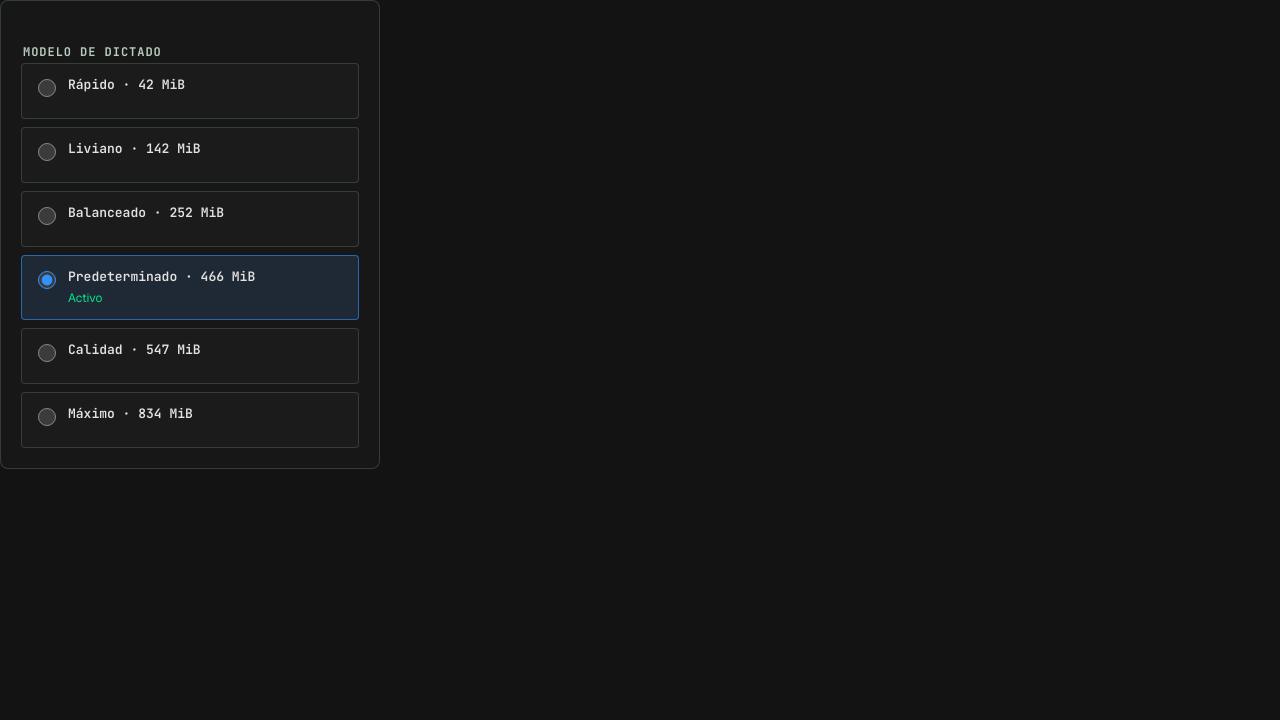
Test case: ModelSelector › requires confirmation, reports progress, and does not activate during download
Click the radio button labelled "Calidad · 547 MiB" at {"x": 47, "y": 353}, box [38,344,56,362]
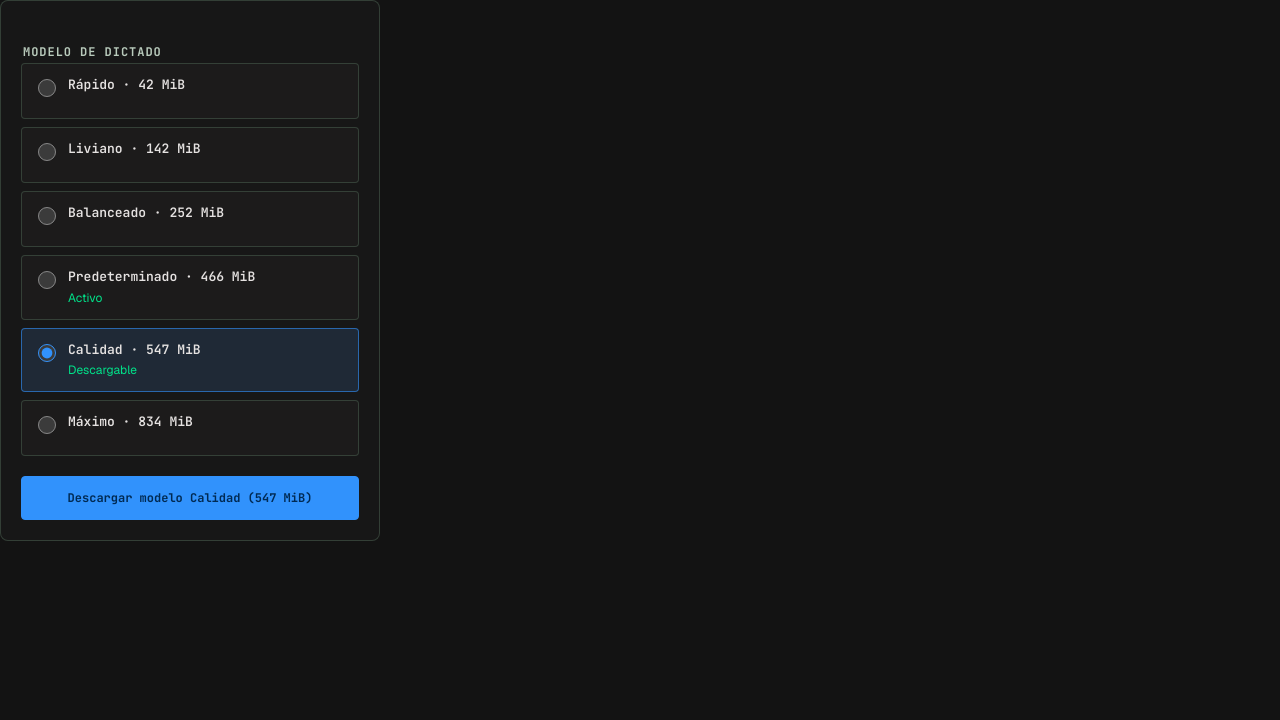
Click the button "Descargar modelo Calidad (547 MiB)" at {"x": 190, "y": 498}, box [21,476,359,520]
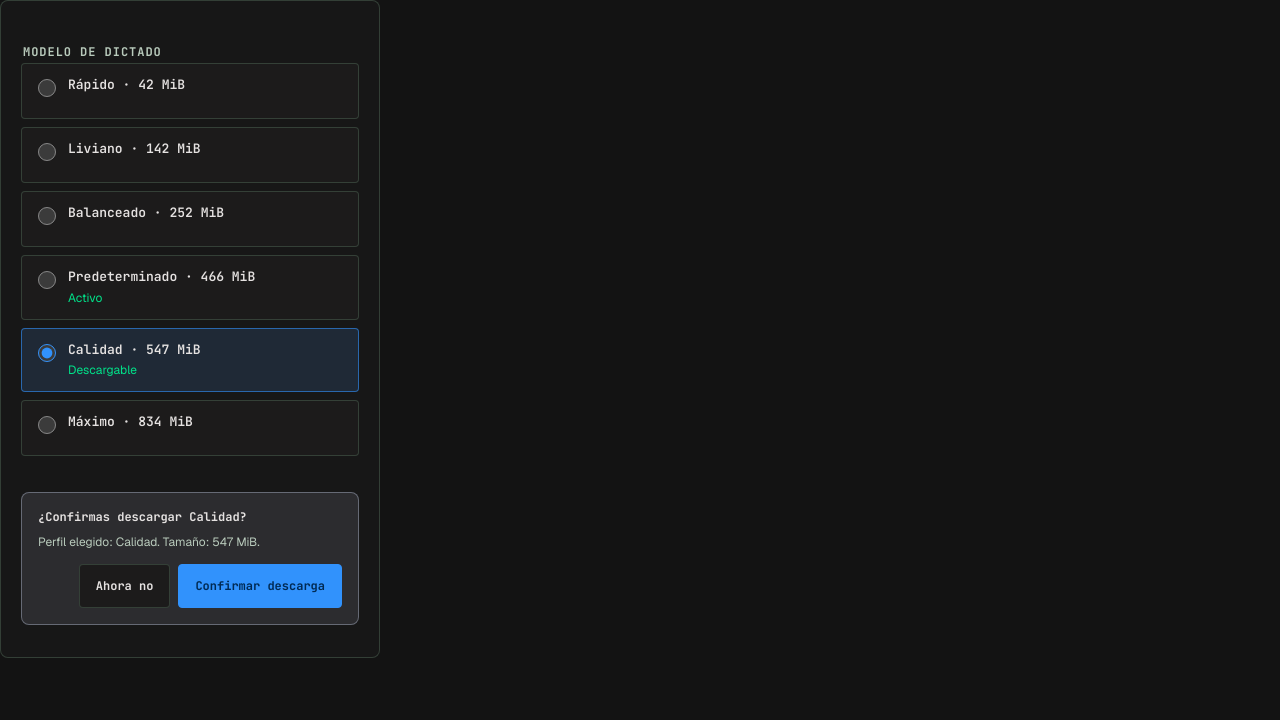
Expected: the dialog named "confirmar descarga" shows "547 MiB", [21,492,359,625]
Click the button "Confirmar descarga" at {"x": 260, "y": 586}, box [178,564,342,608]
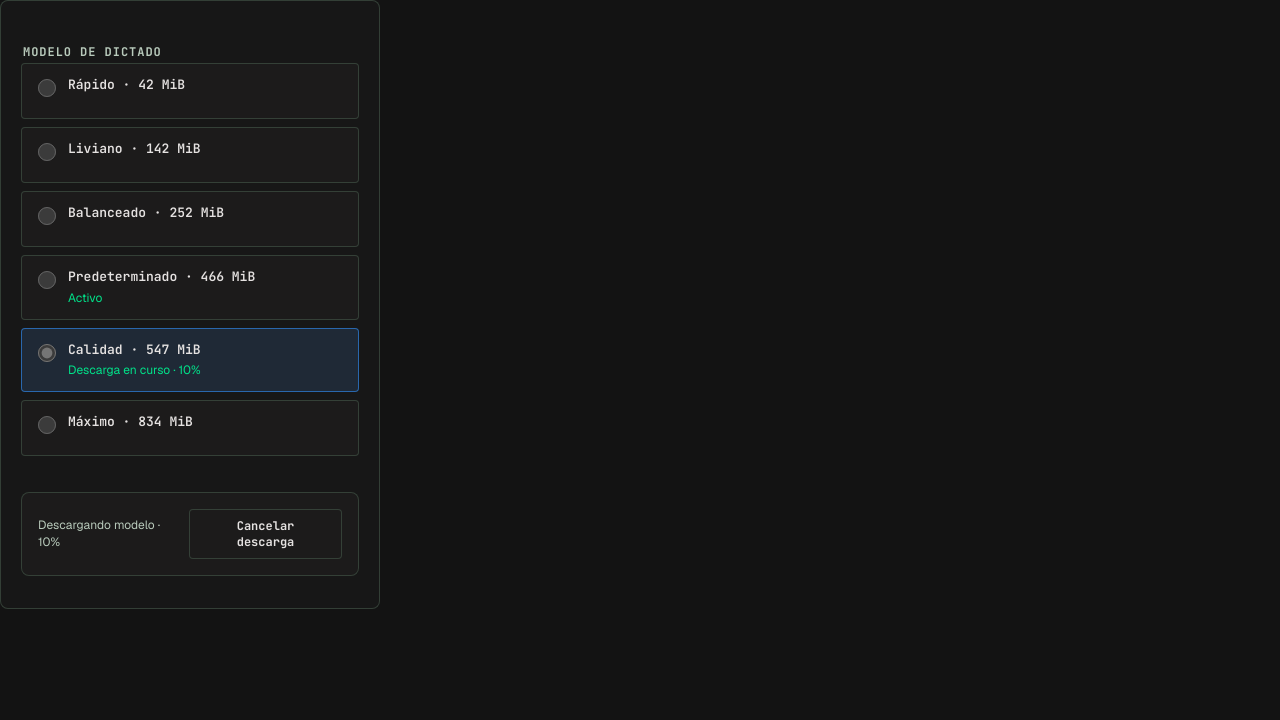
Expected: the text "Descargando modelo · 10%" is shown, [38,517,181,552]
